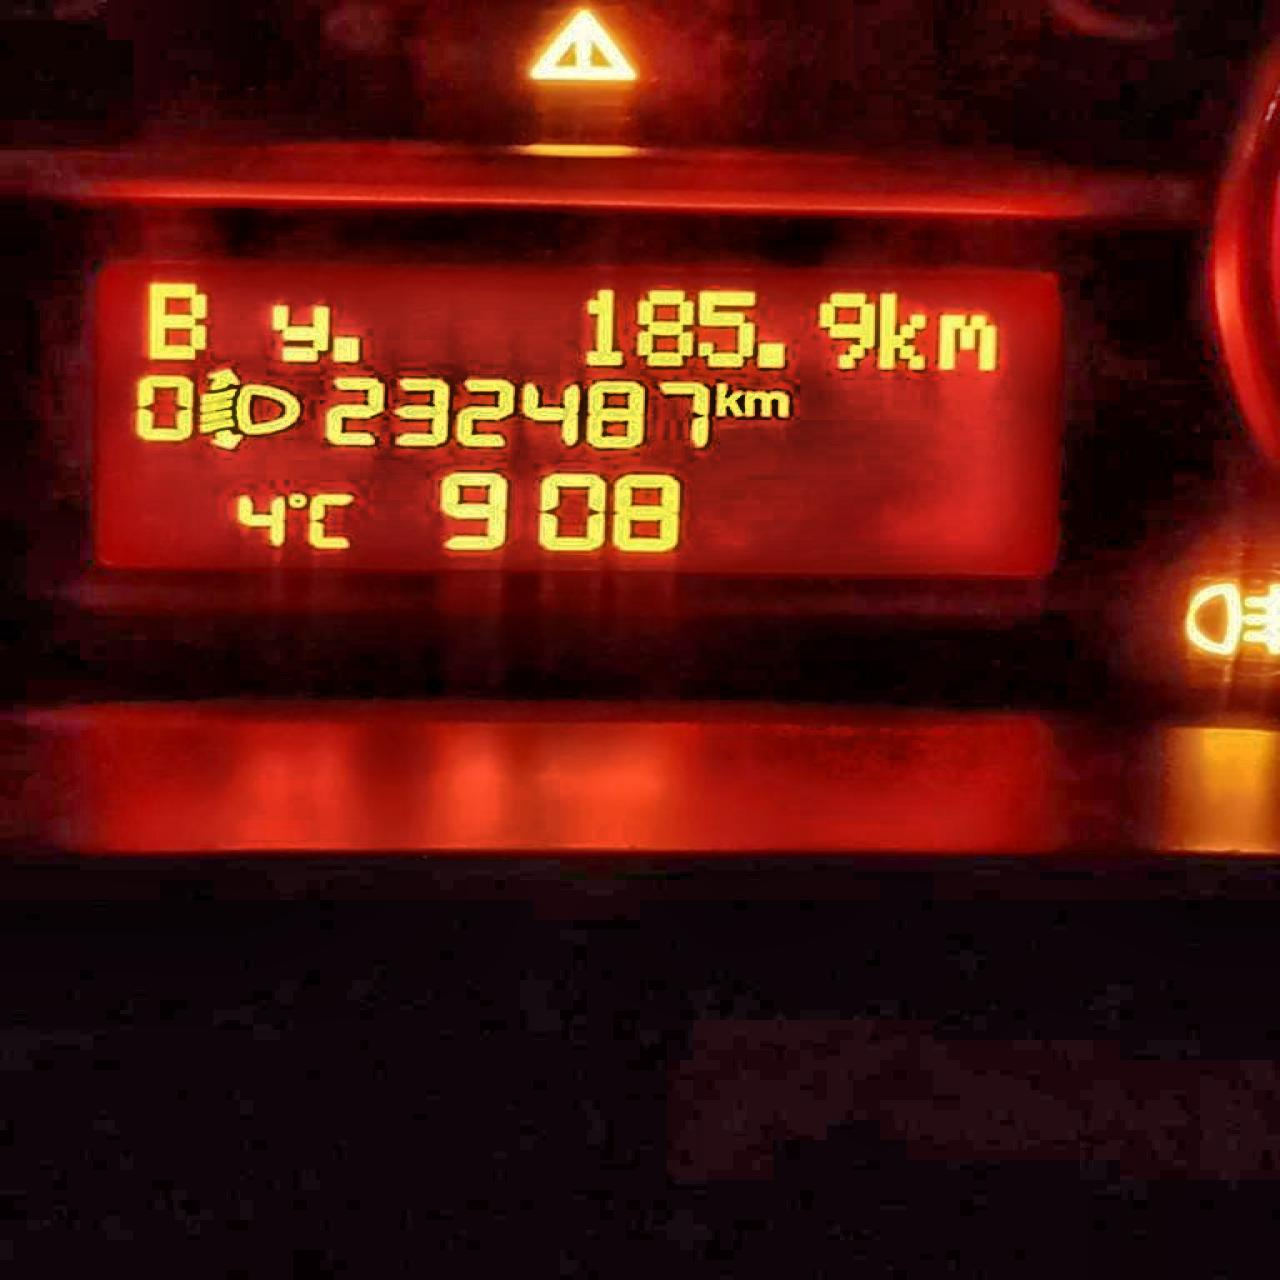-: (755, 336, 791, 372), (328, 333, 365, 363)
0: (535, 470, 608, 552), (131, 372, 193, 444)
1: (580, 284, 628, 373)
2: (321, 372, 387, 448), (454, 375, 517, 448)
3: (392, 374, 448, 447)
4: (519, 380, 578, 445), (232, 491, 285, 549)
5: (696, 286, 761, 370)
7: (656, 379, 712, 449)
8: (612, 470, 680, 554), (635, 285, 695, 369), (585, 377, 647, 449)
9: (434, 470, 509, 551), (815, 288, 874, 372)
X: (142, 278, 211, 361), (878, 287, 932, 370), (937, 309, 996, 373), (265, 301, 327, 361), (308, 490, 356, 551), (743, 388, 790, 418), (714, 379, 743, 417)
odometer: (86, 239, 1070, 580)
